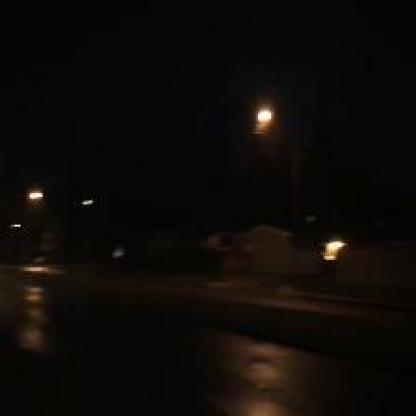other: (246, 100, 288, 145), (314, 231, 346, 267), (23, 181, 39, 209)
